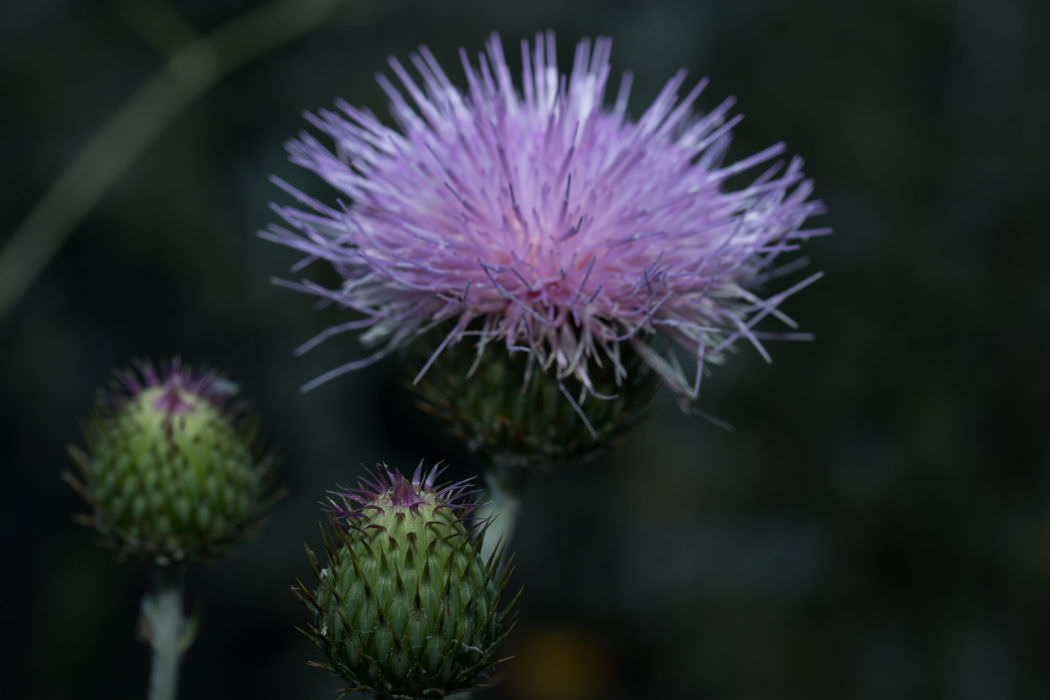thistle: (263, 35, 828, 461)
